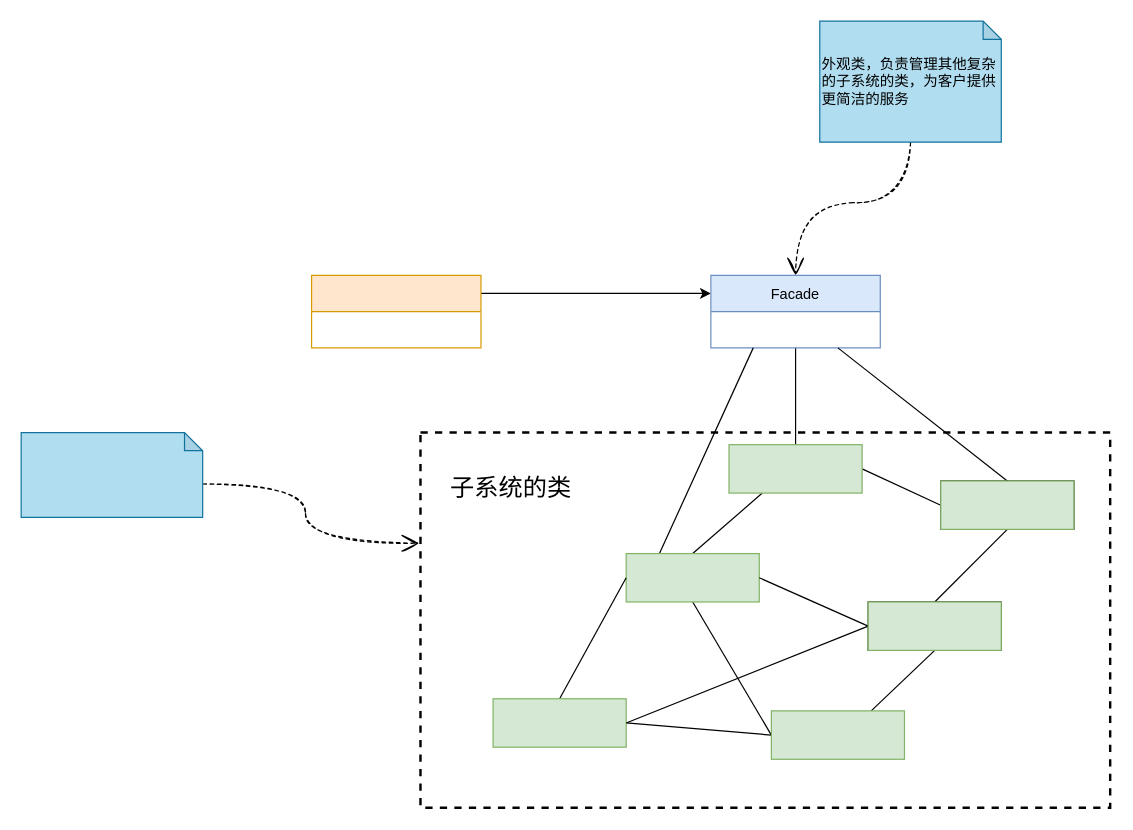
Some shapes in this 1133 by 830 pixel diagram are drawn without their labels. The shapes that lost their labels are listed below. From the top down, each one's centre as x and y in pixels, then its label:
the point at 395,311: Client
the point at 111,474: 我们可以在不影响客户的情况下升级子系统的组件
